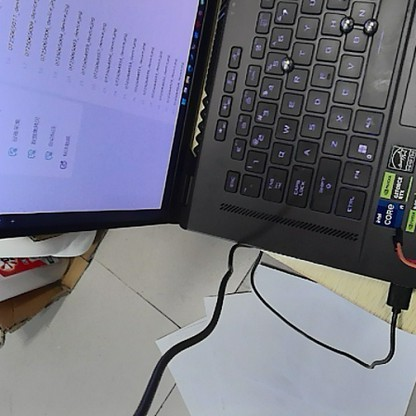ironball: (335, 13, 356, 34), (361, 16, 380, 36), (278, 56, 293, 73)
